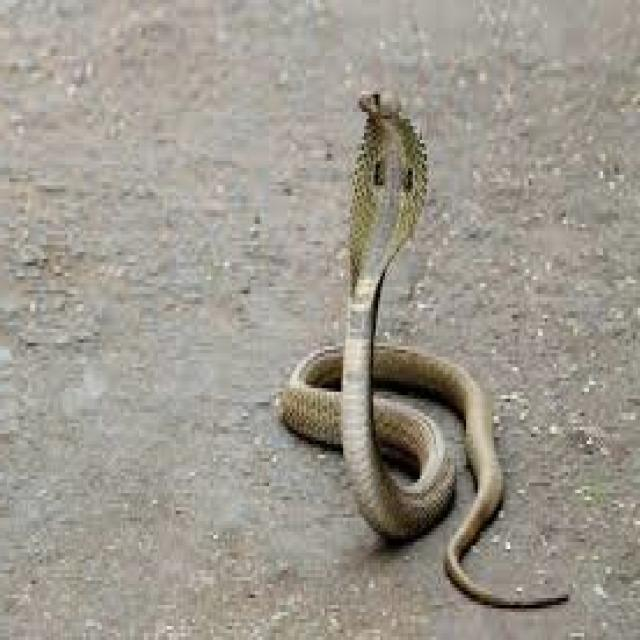snake: (281, 91, 568, 605)
